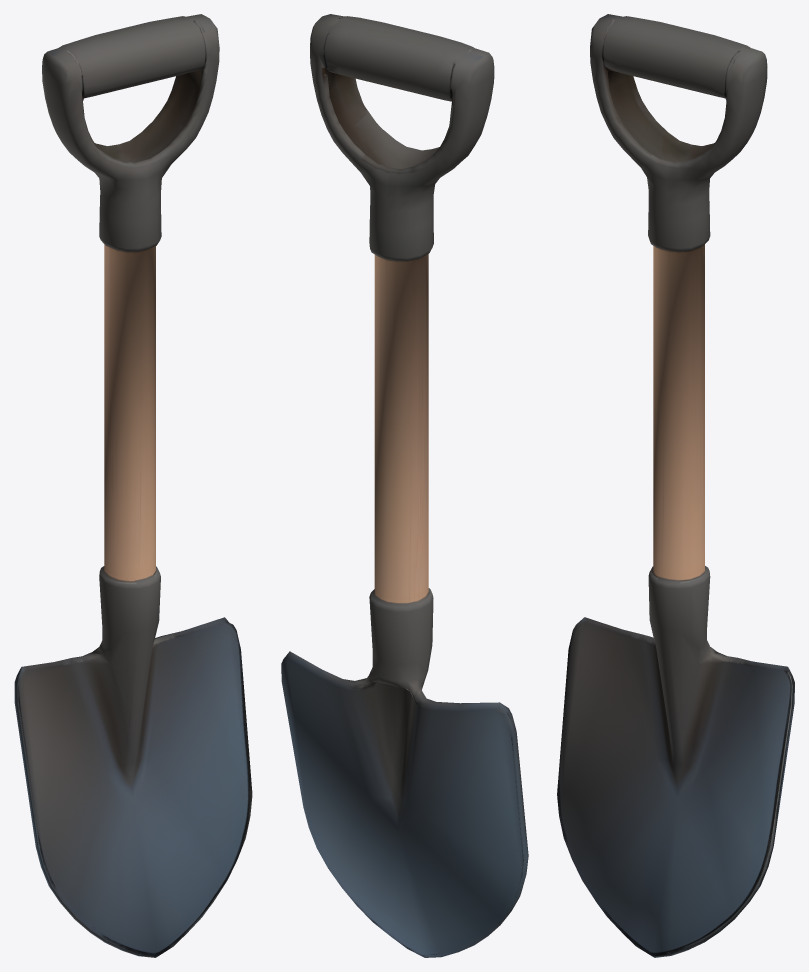
File: low-poly_stylized_shovel.glb
3 renders of one model, left to right at view 1: azimuth 30°, elevation 25°; view 2: azimuth 150°, elevation 25°; view 3: azimuth 330°, elevation 25°, orthographic. The views are drawn at different scales.
Visible parts, largest first — view 1: mesh_input; view 2: mesh_input; view 3: mesh_input.
Part boxes in pixels (bbox=[...]): mesh_input: bbox=[14, 14, 252, 957]; mesh_input: bbox=[281, 14, 528, 957]; mesh_input: bbox=[557, 14, 794, 957].
Size of the model in its own units: 0.4867 by 1.9 by 0.1622.
1 material, 1 textured.
